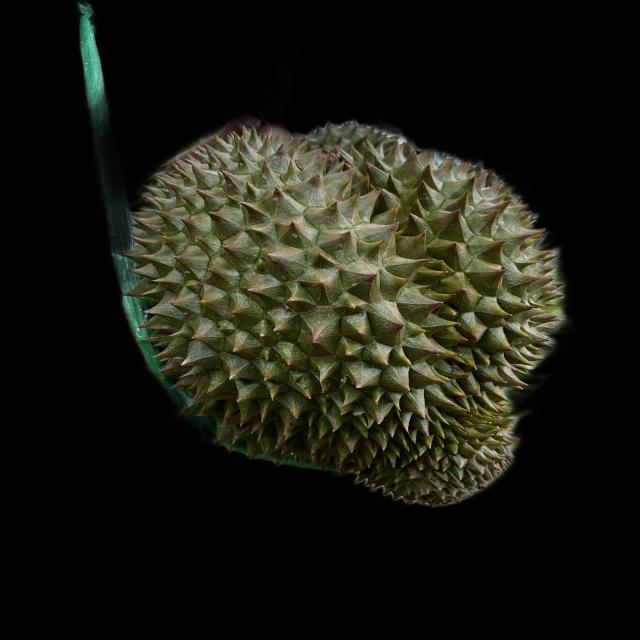immature: (128, 118, 561, 507)
